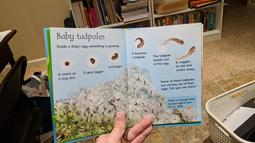text block: (54, 30, 106, 43), (156, 76, 198, 92), (55, 41, 120, 50), (172, 55, 197, 73), (150, 51, 173, 68), (166, 97, 197, 109), (53, 70, 79, 80), (82, 67, 106, 77), (129, 50, 149, 62), (106, 62, 121, 71)
